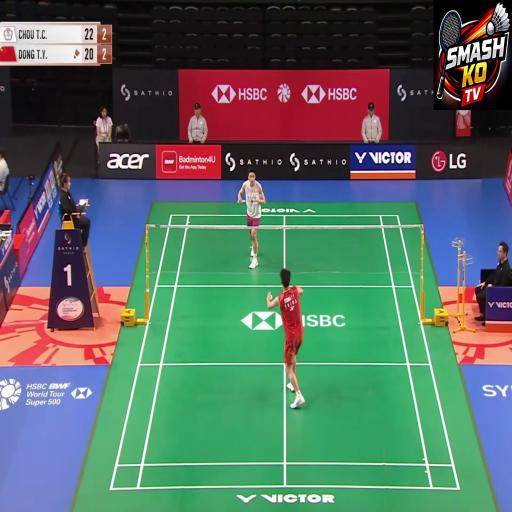player: (272, 265, 316, 402), (231, 146, 266, 294)
